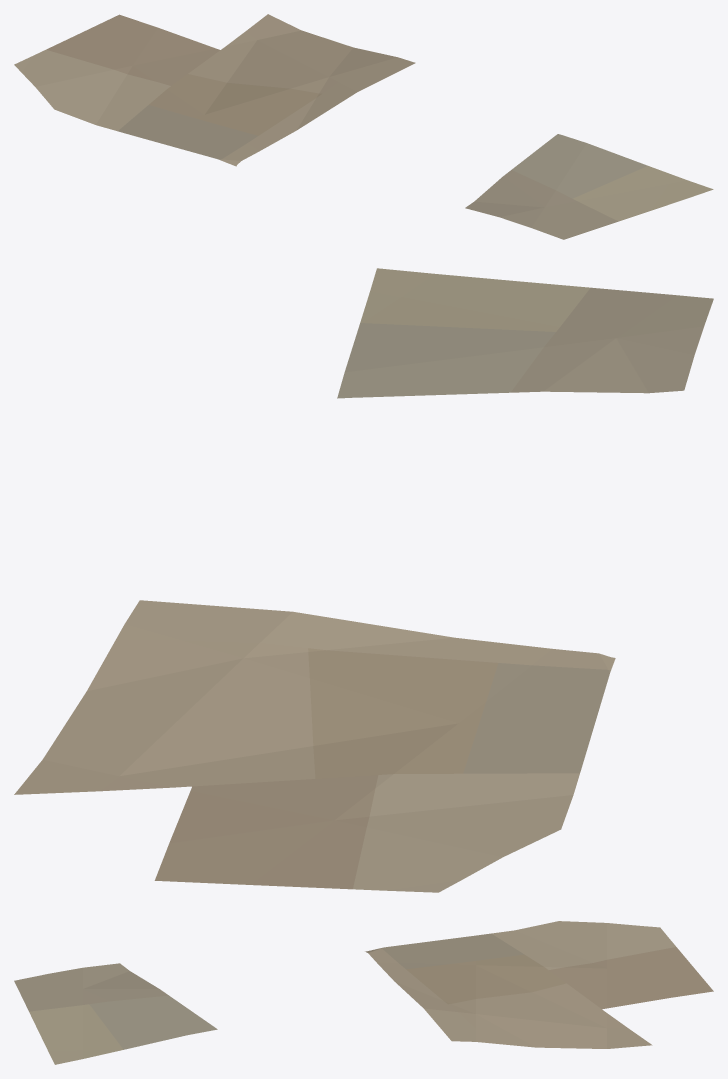
The model's file is farm_26_15_soil.glb.
The picture shows the model from 3 angles, top to bottom: view 1: azimuth 30°, elevation 25°; view 2: azimuth 150°, elevation 25°; view 3: azimuth 270°, elevation 25°; orthographic projection. The views are drawn at different scales.
Parts seen in each view (by area): view 1: geometry_0; view 2: geometry_0; view 3: geometry_0.
Part boxes in pixels (x1=…): geometry_0: x1=14, y1=14, x2=713, y2=239; geometry_0: x1=14, y1=268, x2=713, y2=892; geometry_0: x1=14, y1=921, x2=713, y2=1064.
Bounding box in the file's own units: 246 × 27.94 × 427.
